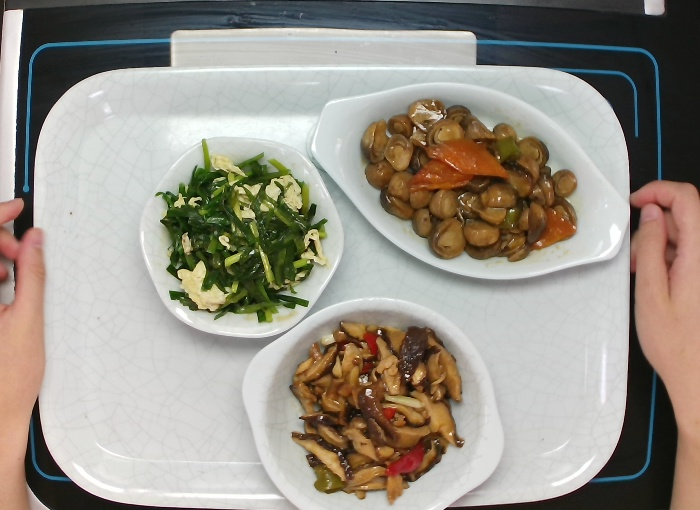JYsf-Shuang_Er_Wan: (241, 295, 506, 510)
JYsf-Yu_Pan: (310, 81, 632, 281)
WCQzf-Hua_Duo_Wan: (137, 134, 345, 340)
